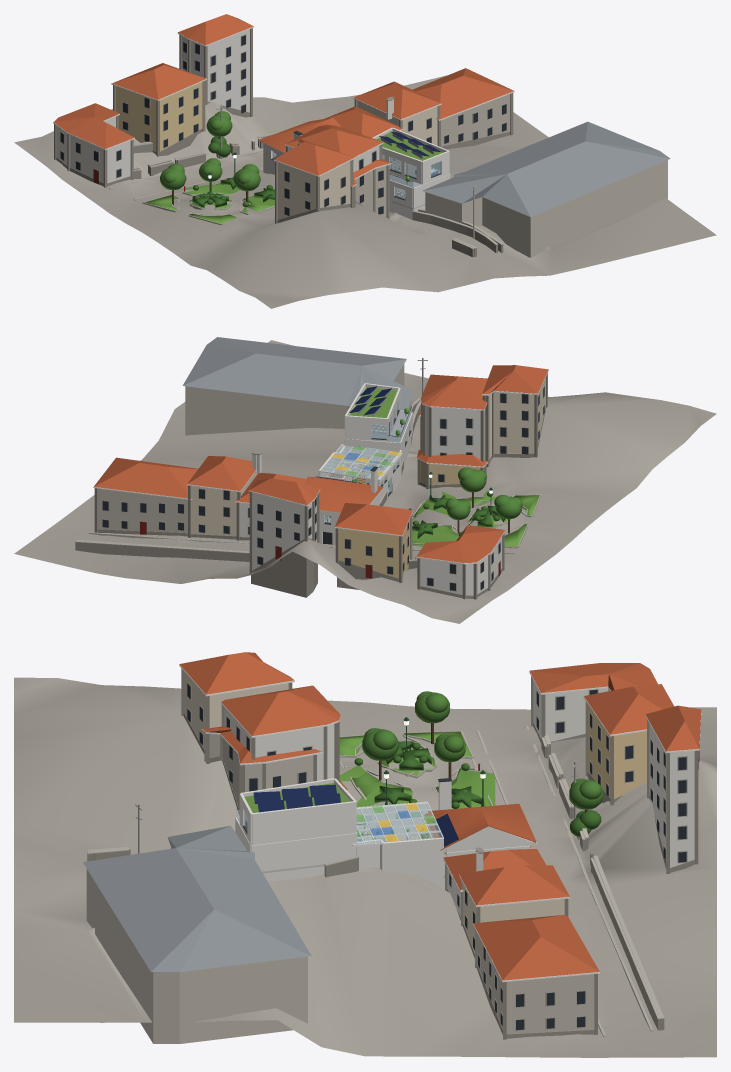
The model's file is sede-blender.glb.
3 views of the same model, one above another, from view 1: azimuth 30°, elevation 25°; view 2: azimuth 150°, elevation 25°; view 3: azimuth 270°, elevation 25° (orthographic). The views are drawn at different scales.
Visible parts, largest first — view 1: Terreno (levantamento ETRS89), Telhados · telha, Paredes · reboco_cinza, Telhados · chapa, Paredes · reboco_branco, Paredes · granito, Paredes · reboco_creme, Paredes · reboco_ocre, Vãos · janela, Vãos · granito_claro, Envolvente · Árvores e arbustos · copa, Envolvente · Muros e lancis · granito (+11 smaller); view 2: Terreno (levantamento ETRS89), Telhados · telha, Telhados · chapa, Paredes · reboco_cinza, Paredes · granito, Paredes · reboco_branco, Paredes · reboco_creme, Vãos · janela, Paredes · reboco_ocre, Vãos · granito_claro, Envolvente · Muros e lancis · granito, Envolvente · Árvores e arbustos · copa (+15 smaller); view 3: Terreno (levantamento ETRS89), Telhados · telha, Paredes · reboco_cinza, Telhados · chapa, Paredes · reboco_branco, Paredes · granito, Átrio · Piso 1 · parede, Envolvente · Muros e lancis · granito_claro, Vãos · janela, Paredes · reboco_creme, Envolvente · Árvores e arbustos · copa, Novo · Piso 2 · parede (+15 smaller).
Boxes of the visible parts, x1,y1,x2,y2 form: Terreno (levantamento ETRS89): (14, 69, 716, 308); Telhados · telha: (53, 14, 513, 185); Paredes · reboco_cinza: (355, 94, 667, 257); Telhados · chapa: (422, 121, 670, 216); Paredes · reboco_branco: (56, 29, 379, 183); Paredes · granito: (54, 28, 513, 223); Paredes · reboco_creme: (278, 101, 437, 219); Paredes · reboco_ocre: (116, 82, 202, 151); Vãos · janela: (60, 35, 506, 215); Vãos · granito_claro: (60, 34, 506, 216); Envolvente · Árvores e arbustos · copa: (160, 111, 260, 191); Envolvente · Muros e lancis · granito: (132, 136, 503, 257); Terreno (levantamento ETRS89): (14, 340, 716, 623); Telhados · telha: (94, 365, 548, 562); Telhados · chapa: (182, 337, 413, 410); Paredes · reboco_cinza: (97, 364, 411, 532); Paredes · granito: (94, 373, 547, 599); Paredes · reboco_branco: (239, 406, 502, 595); Paredes · reboco_creme: (191, 377, 545, 536); Vãos · janela: (102, 387, 544, 590); Paredes · reboco_ocre: (338, 460, 484, 578); Vãos · granito_claro: (102, 386, 544, 591); Envolvente · Muros e lancis · granito: (75, 400, 420, 569); Envolvente · Árvores e arbustos · copa: (445, 467, 522, 520); Terreno (levantamento ETRS89): (14, 677, 716, 1057); Telhados · telha: (179, 652, 701, 980); Paredes · reboco_cinza: (86, 734, 594, 1043); Telhados · chapa: (83, 825, 311, 971); Paredes · reboco_branco: (224, 680, 694, 916); Paredes · granito: (181, 668, 699, 1039); Átrio · Piso 1 · parede: (356, 802, 443, 889); Envolvente · Muros e lancis · granito_claro: (87, 726, 664, 1036); Vãos · janela: (187, 683, 698, 1030); Paredes · reboco_creme: (184, 671, 564, 952); Envolvente · Árvores e arbustos · copa: (362, 691, 603, 809); Novo · Piso 2 · parede: (239, 798, 356, 845).
Bounding box in the file's own units: 80.69 × 24.36 × 80.
